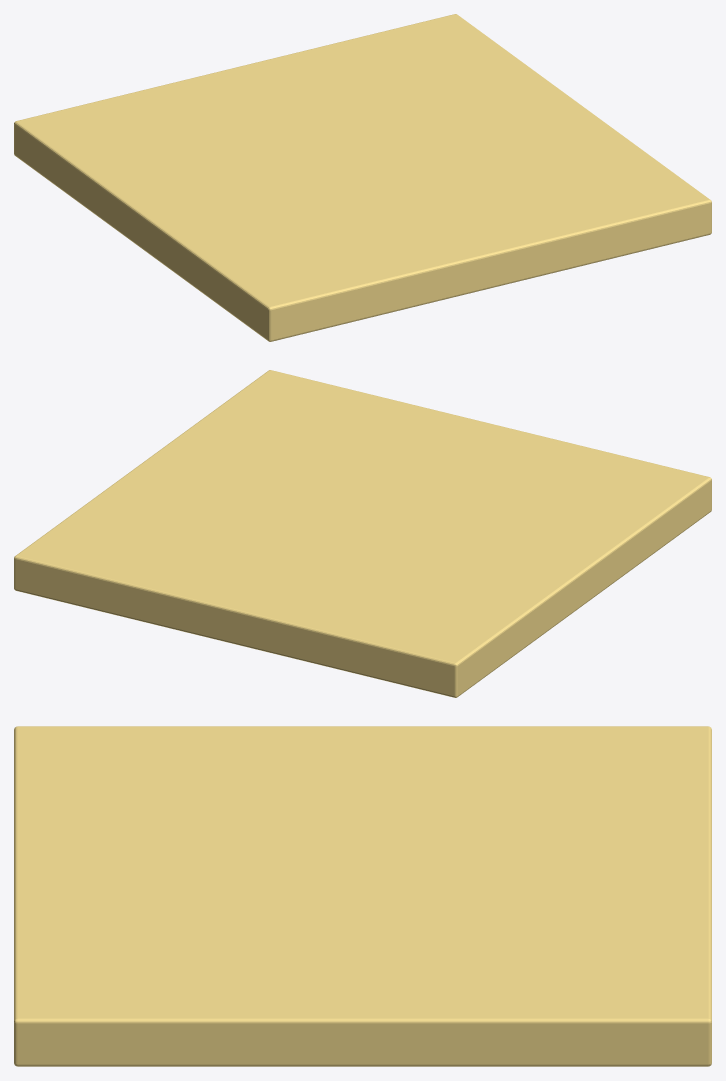
File: fx_skylight.glb
3 renders of one model, top to bottom at view 1: azimuth 30°, elevation 25°; view 2: azimuth 150°, elevation 25°; view 3: azimuth 270°, elevation 25°, orthographic. The views are drawn at different scales.
Visible parts, largest first — view 1: fx_skylight; view 2: fx_skylight; view 3: fx_skylight.
Boxes of the visible parts, left/top/right/bottom form: fx_skylight: left=14, top=14, right=711, bottom=341; fx_skylight: left=14, top=370, right=711, bottom=697; fx_skylight: left=14, top=726, right=711, bottom=1066.
Size of the model in its own units: 4 by 0.33 by 4.
